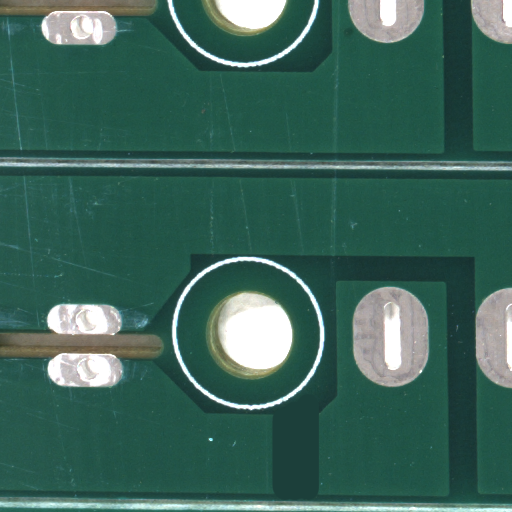Open_circuit: (296, 453, 350, 512)
